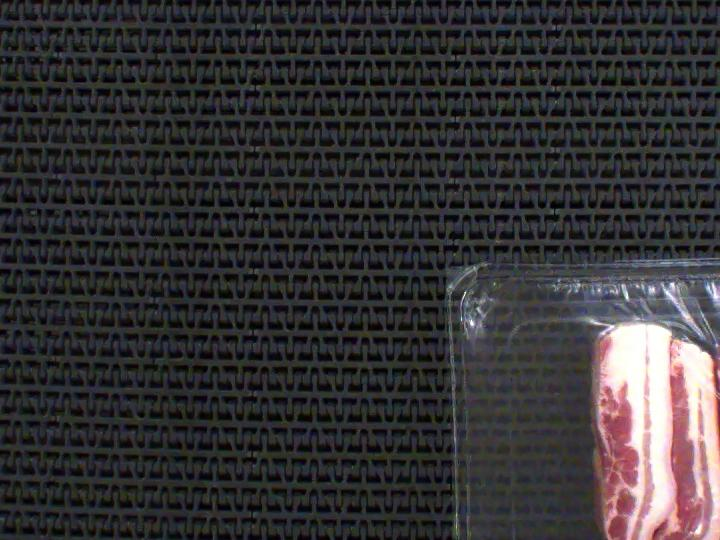unsealed: (457, 268, 720, 540)
